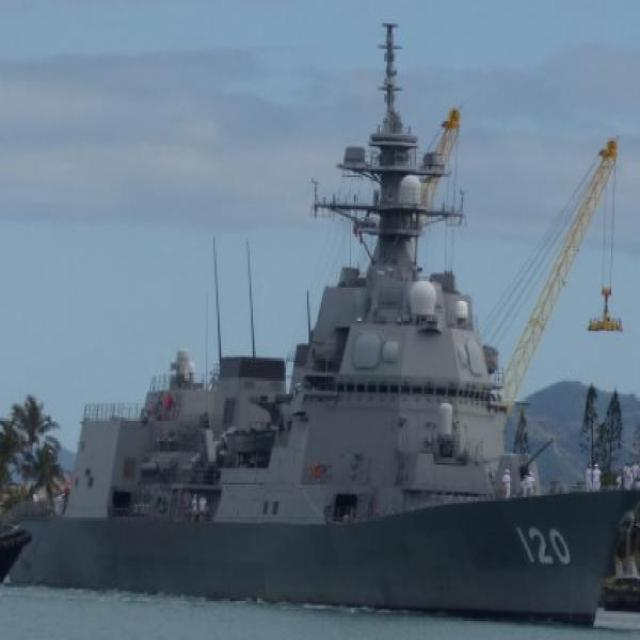Military: (9, 20, 639, 628)
